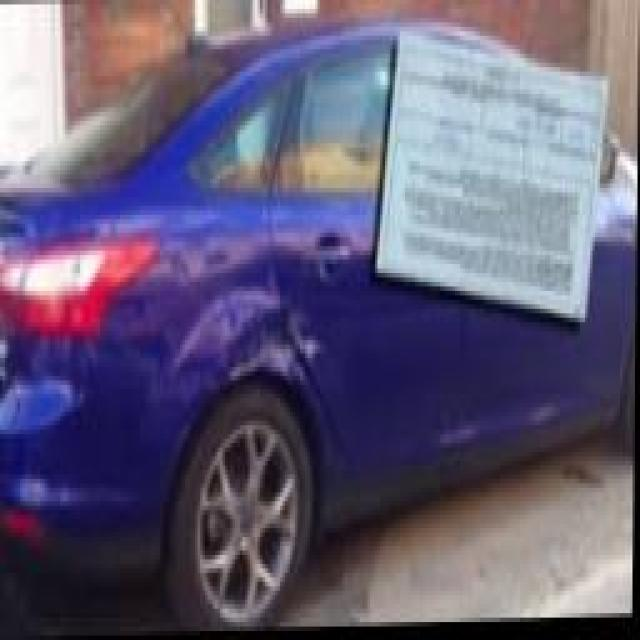Fender: (165, 286, 336, 404)
